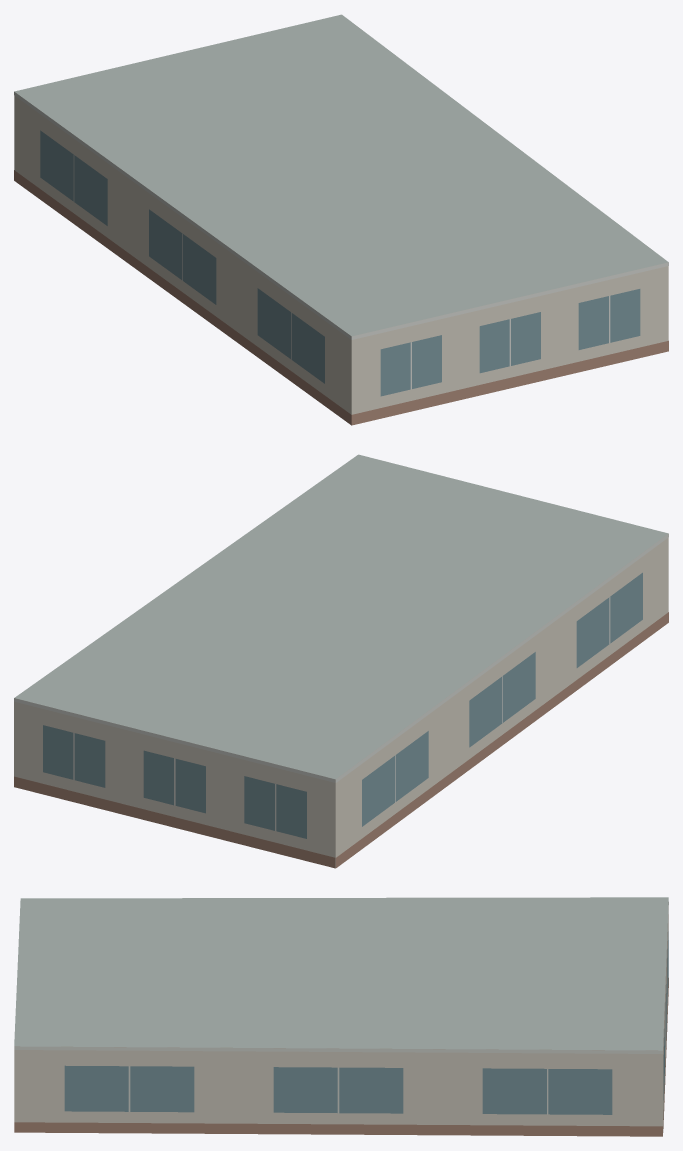
Rendered from survey-upis-33027174.glb.
3 views of the same model, one above another, from view 1: azimuth 30°, elevation 25°; view 2: azimuth 150°, elevation 25°; view 3: azimuth 270°, elevation 25° (orthographic). The views are drawn at different scales.
Visible parts, largest first — view 1: survey-upis-33027174.tmp; view 2: survey-upis-33027174.tmp; view 3: survey-upis-33027174.tmp.
Boxes of the visible parts, x1,y1,x2,y2 form: survey-upis-33027174.tmp: (14,14,668,425); survey-upis-33027174.tmp: (14,454,668,868); survey-upis-33027174.tmp: (14,897,668,1136).
Bounding box in the file's own units: 11.65 × 3.05 × 21.03.
